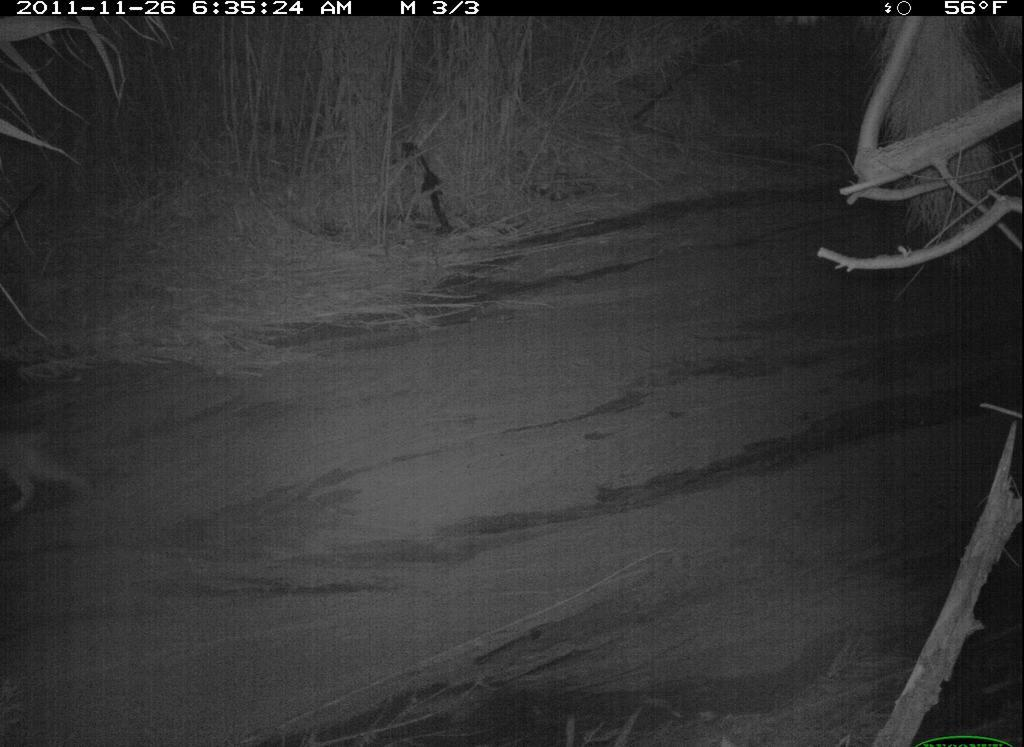bobcat: (8, 401, 139, 579)
